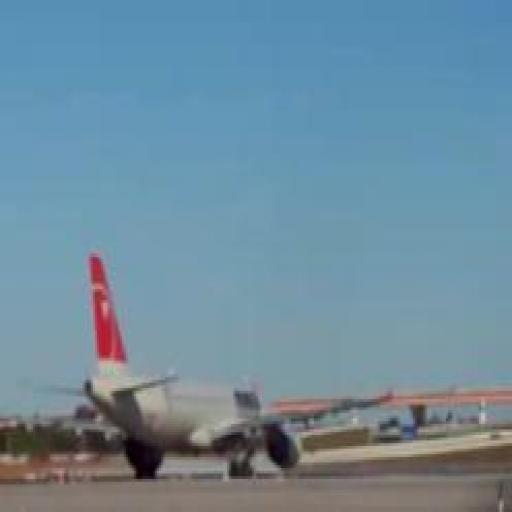aircraft: (21, 250, 395, 478)
